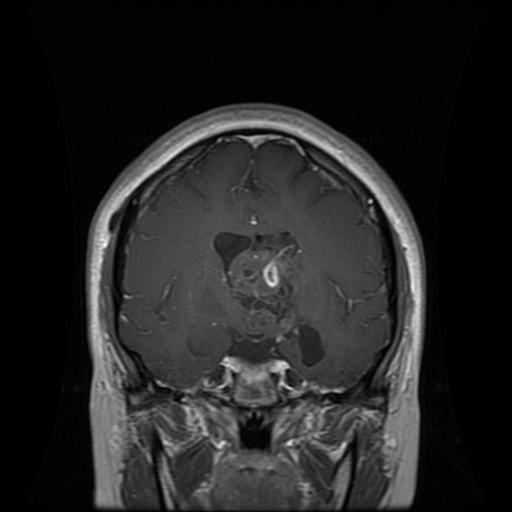Gliomia_tumour: (212, 231, 328, 367)
